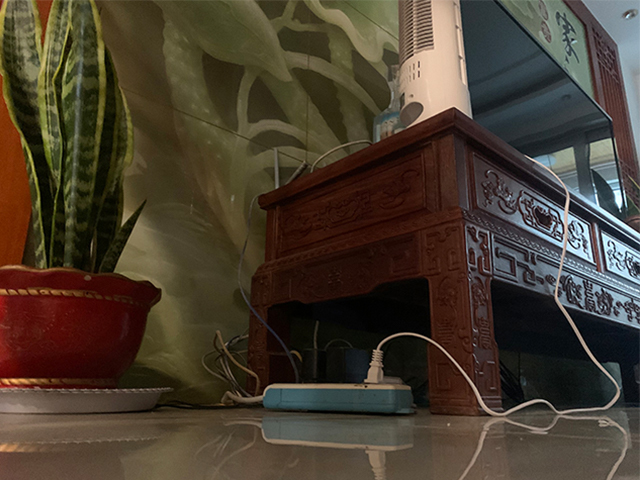cabinet: (246, 106, 640, 419)
wire: (362, 153, 622, 418), (154, 193, 299, 411)
